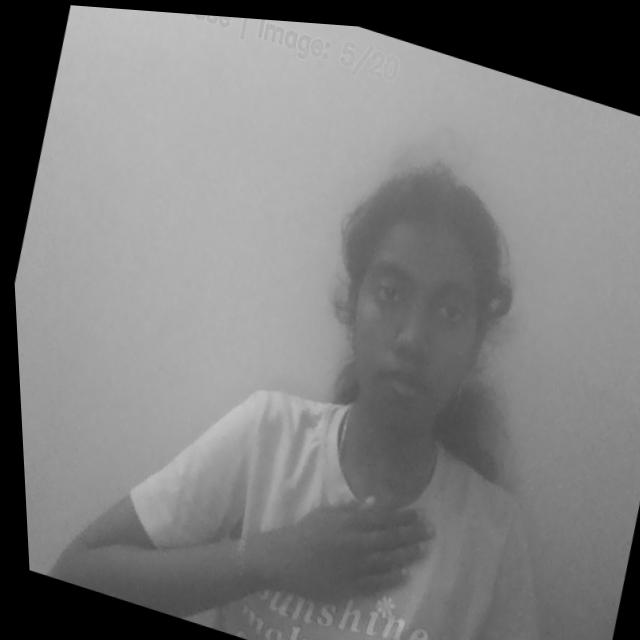Please: (276, 461, 442, 635)
